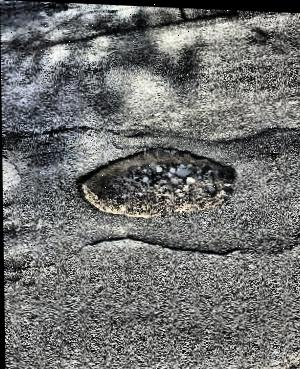pothole: (72, 137, 237, 219)
